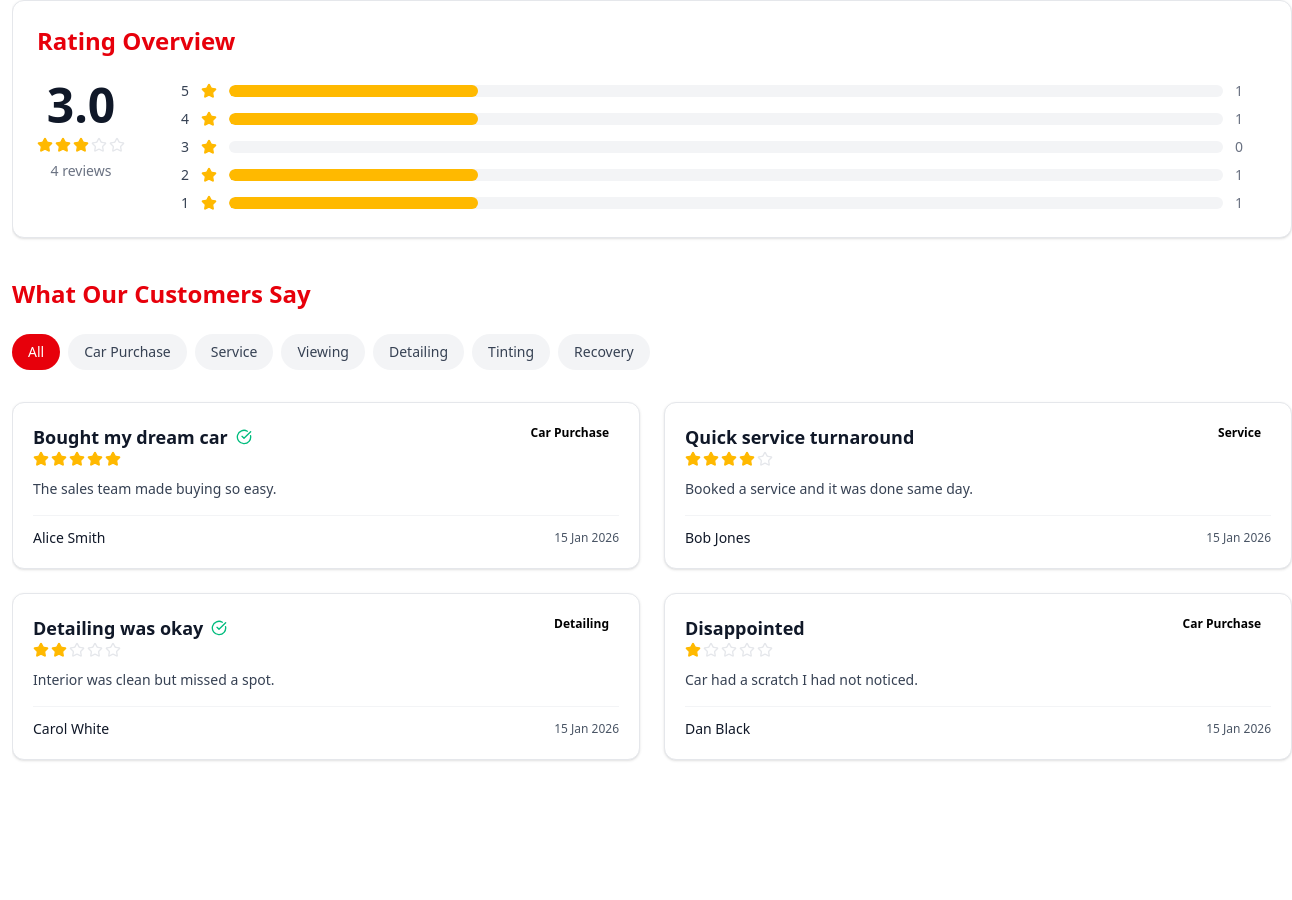
ReviewsPageContent › 🎯 filtering to a service type with no matches shows the zero-state
Click the tab "Recovery": [604, 352] box [558,334,650,370]
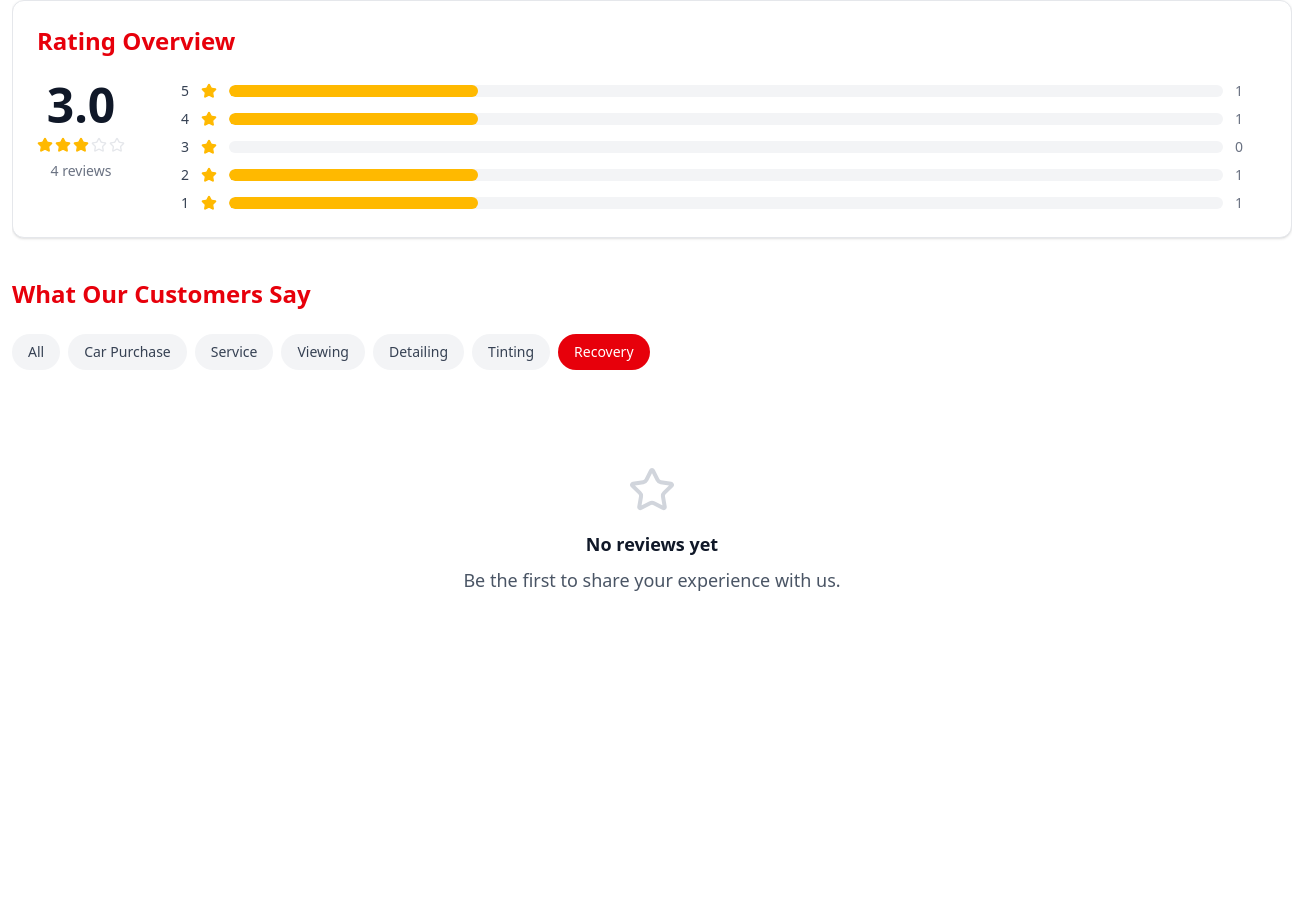
Expected: the heading "Rating Overview" is shown, [37,24,235,57]
Result: the text "No reviews yet" is shown at [586,532,718,556]
